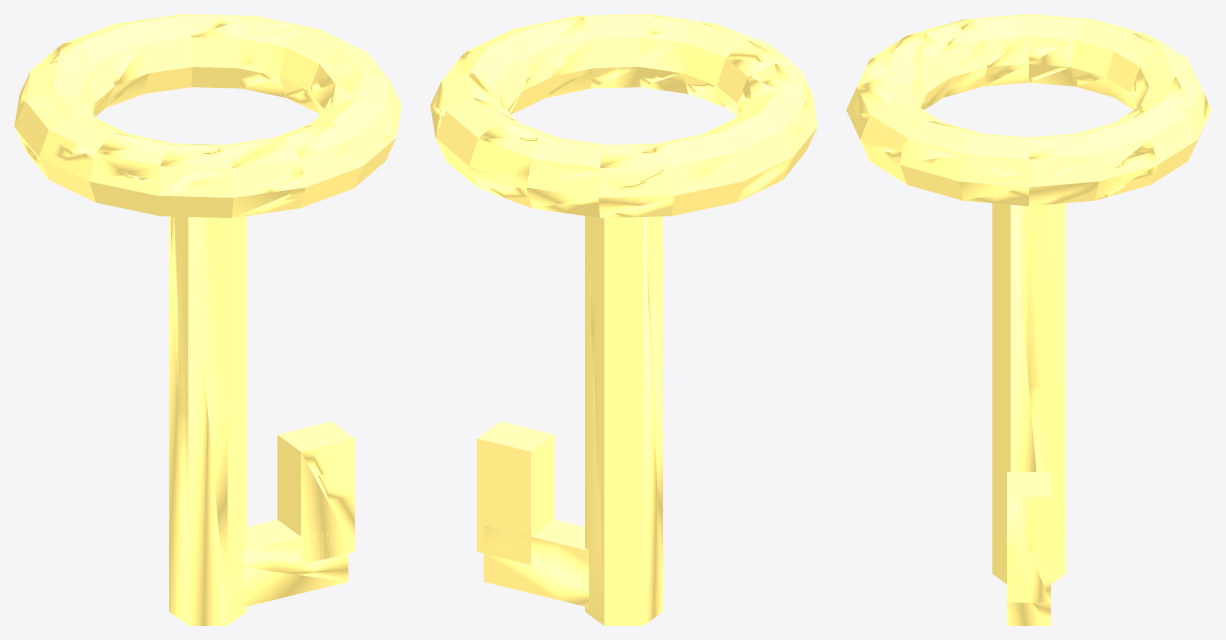
The model's file is key.glb.
3 renders of one model, left to right at view 1: azimuth 30°, elevation 25°; view 2: azimuth 150°, elevation 25°; view 3: azimuth 270°, elevation 25°, orthographic. The views are drawn at different scales.
Visible parts, largest first — view 1: KeyRing; view 2: KeyRing; view 3: KeyRing.
Boxes of the visible parts, <box> form: KeyRing: <box>14,14,401,625</box>; KeyRing: <box>430,14,817,625</box>; KeyRing: <box>846,14,1211,625</box>.
Size of the model in its own units: 0.5 by 0.75 by 0.5.
